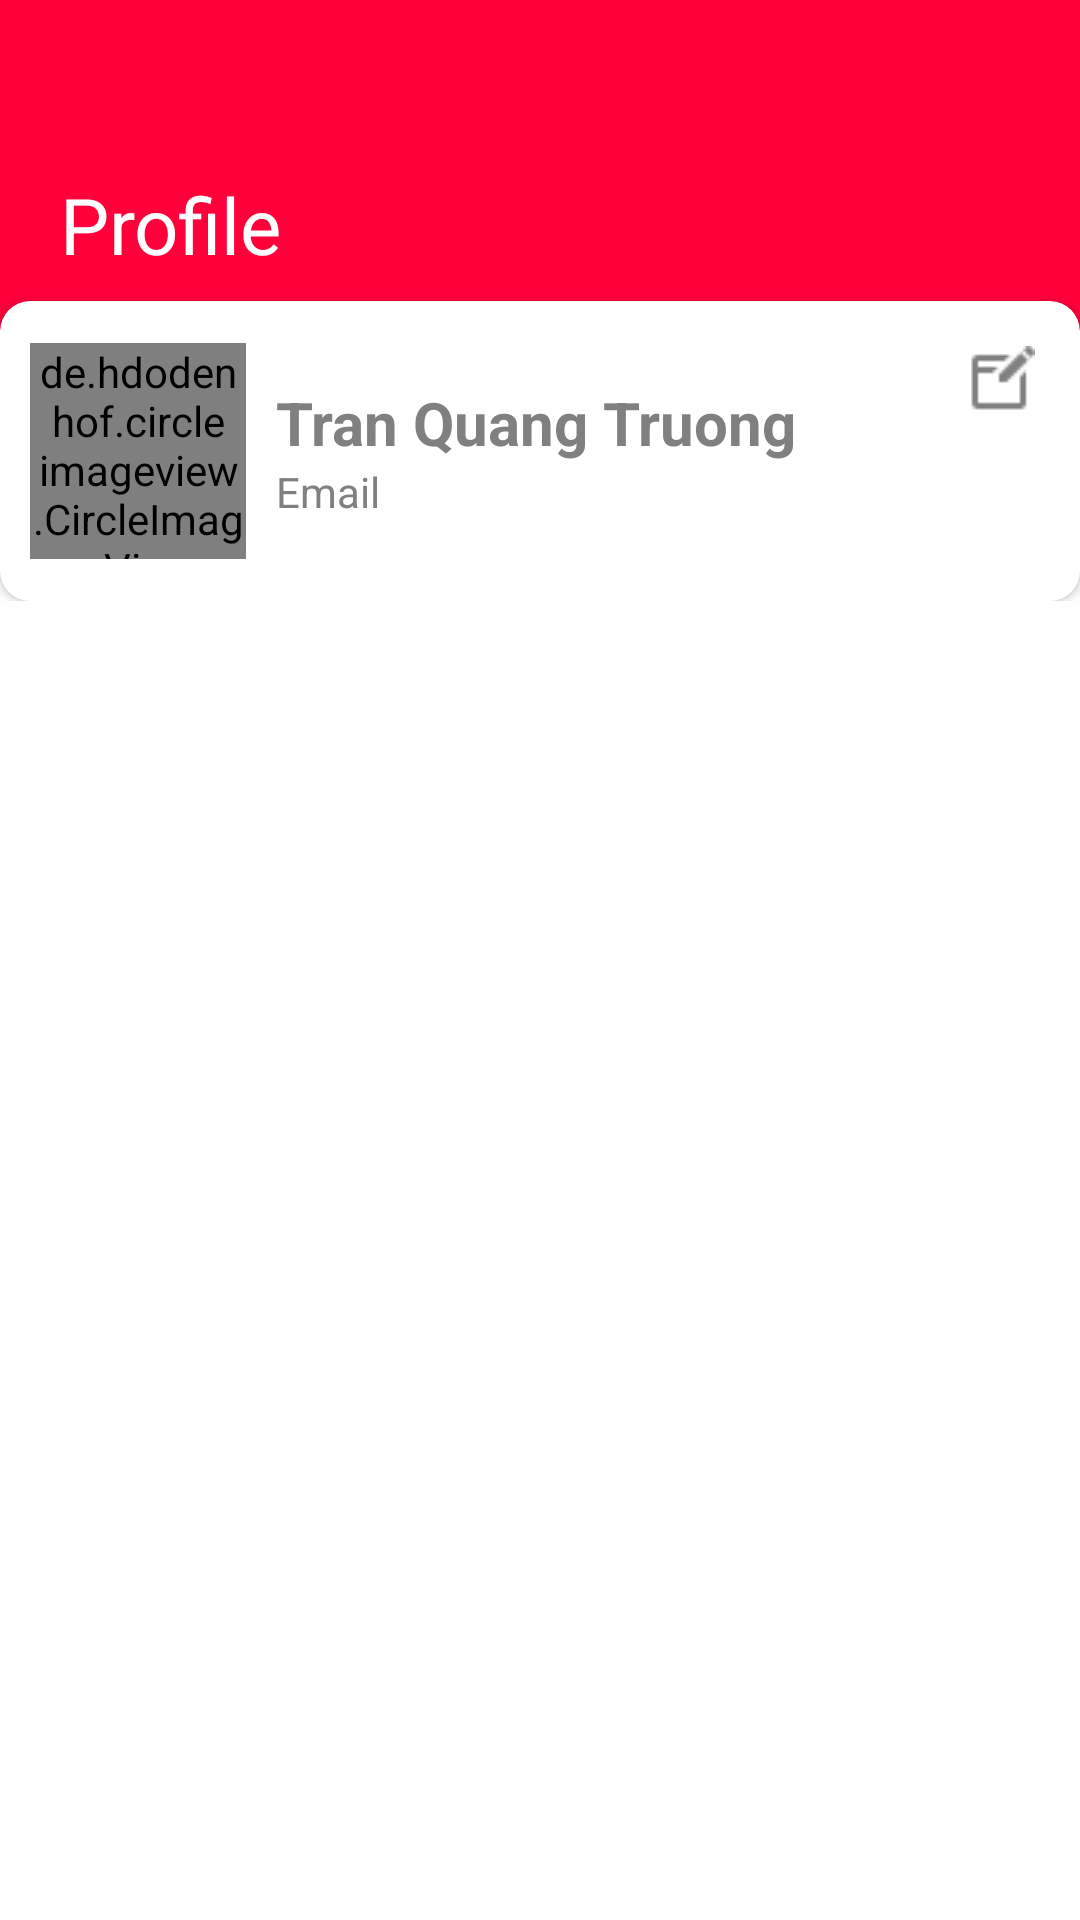

Named icons in this screenshot (1080*1920) and their centers, [x,y]:
create: [1003,378]
